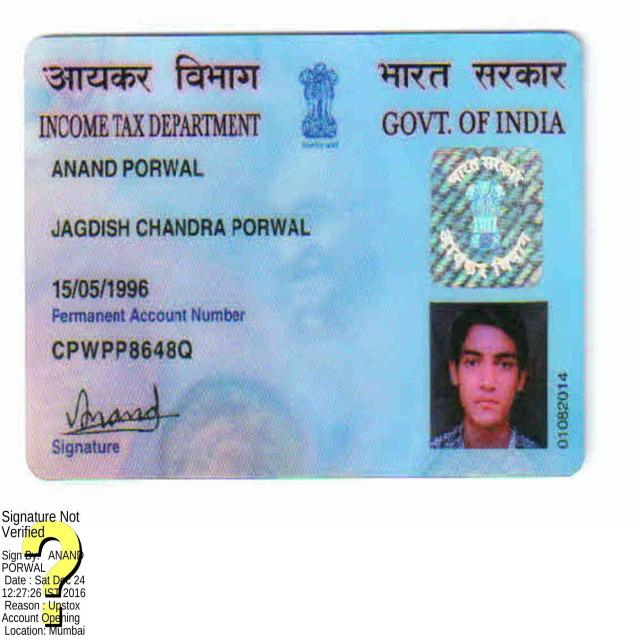pan_card: (31, 39, 579, 472)
